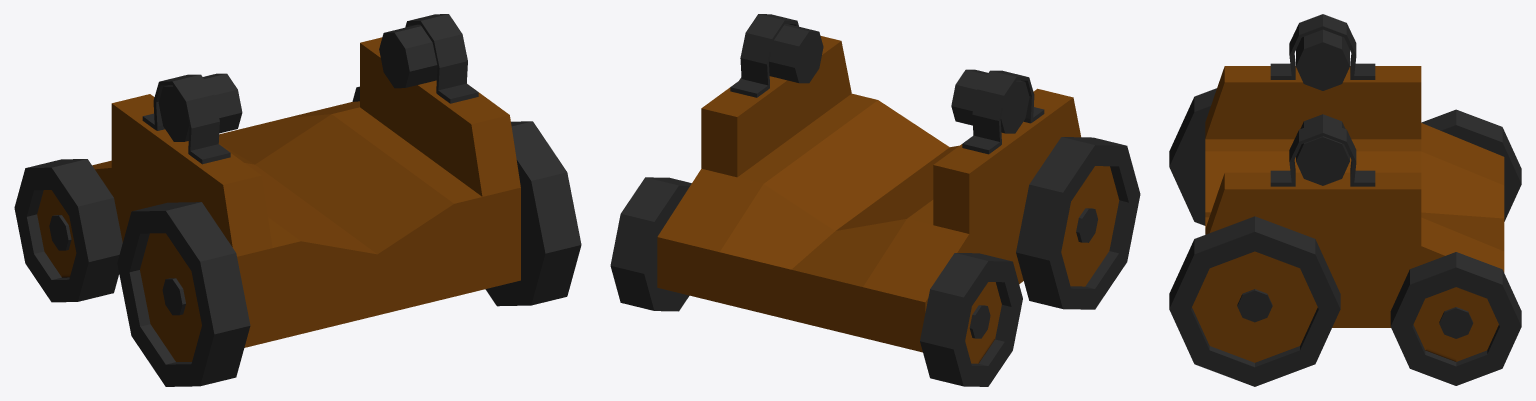
Rendered from CannonBase 1.fbx.
The picture shows the model from 3 angles, left to right: view 1: azimuth 30°, elevation 25°; view 2: azimuth 150°, elevation 25°; view 3: azimuth 270°, elevation 25°; orthographic projection. The views are drawn at different scales.
Visible parts, largest first — view 1: CannonBase; view 2: CannonBase; view 3: CannonBase.
Boxes of the visible parts, x1=… form: CannonBase: x1=14, y1=14, x2=581, y2=386; CannonBase: x1=610, y1=14, x2=1140, y2=386; CannonBase: x1=1169, y1=14, x2=1521, y2=386.
Size of the model in its own units: 330 by 229 by 311.
